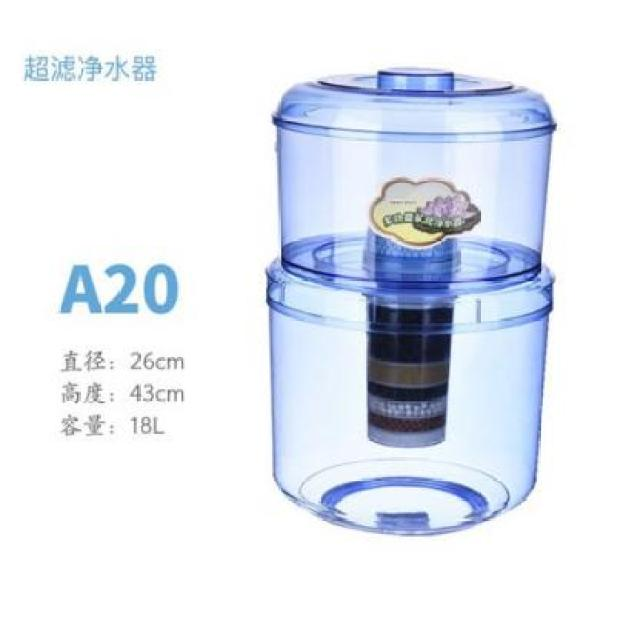coolerbottle: (262, 62, 559, 540)
